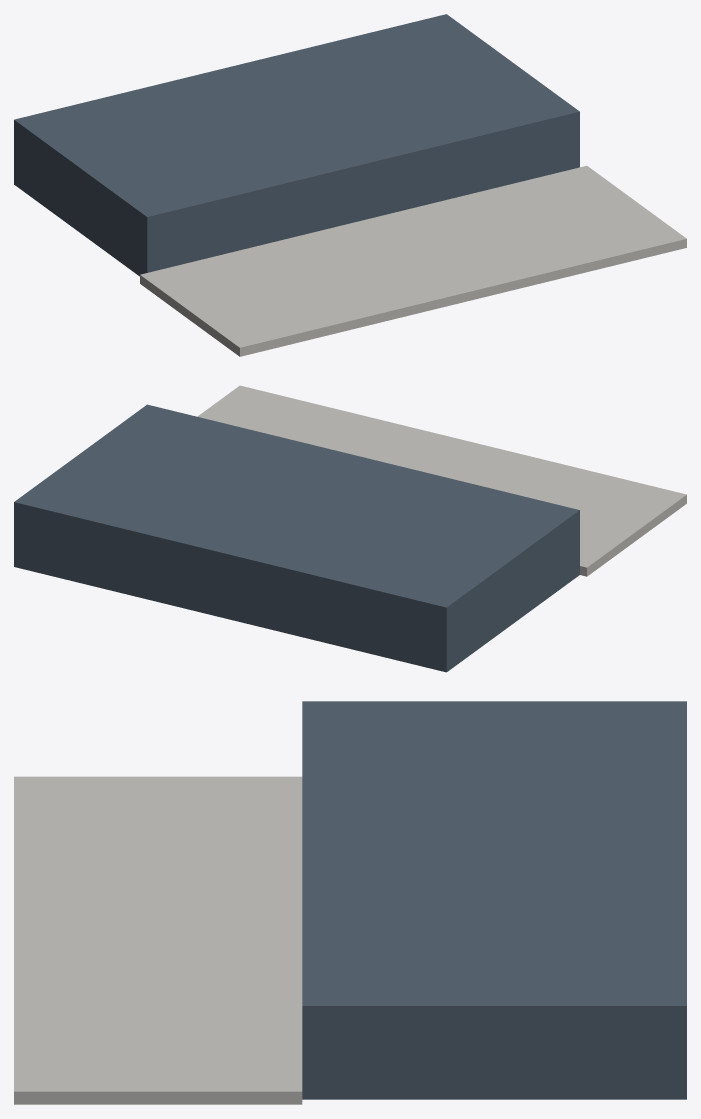
The model's file is condo-club.skyline-v3.lod2.glb.
3 renders of one model, top to bottom at view 1: azimuth 30°, elevation 25°; view 2: azimuth 150°, elevation 25°; view 3: azimuth 270°, elevation 25°, orthographic. The views are drawn at different scales.
Visible parts, largest first — view 1: condo-club; view 2: condo-club; view 3: condo-club.
Boxes of the visible parts, <box> form: condo-club: <box>14,14,686,356</box>; condo-club: <box>14,385,686,672</box>; condo-club: <box>14,701,686,1104</box>.
Bounding box in the file's own units: 31 × 4.3 × 28.
